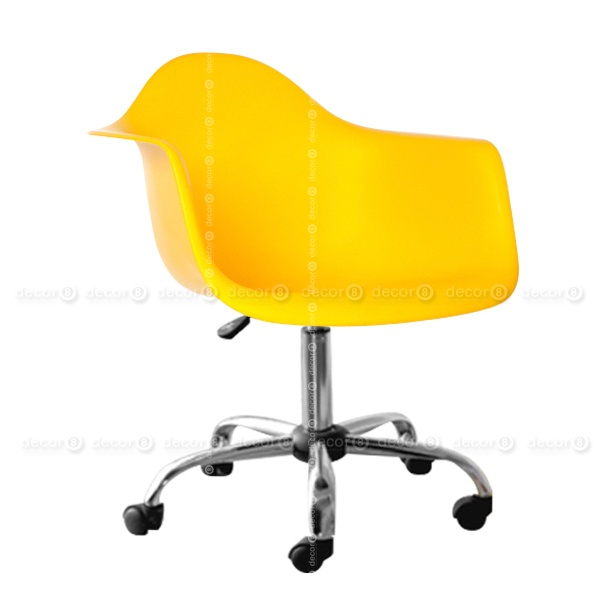chairs: (84, 52, 524, 575)
